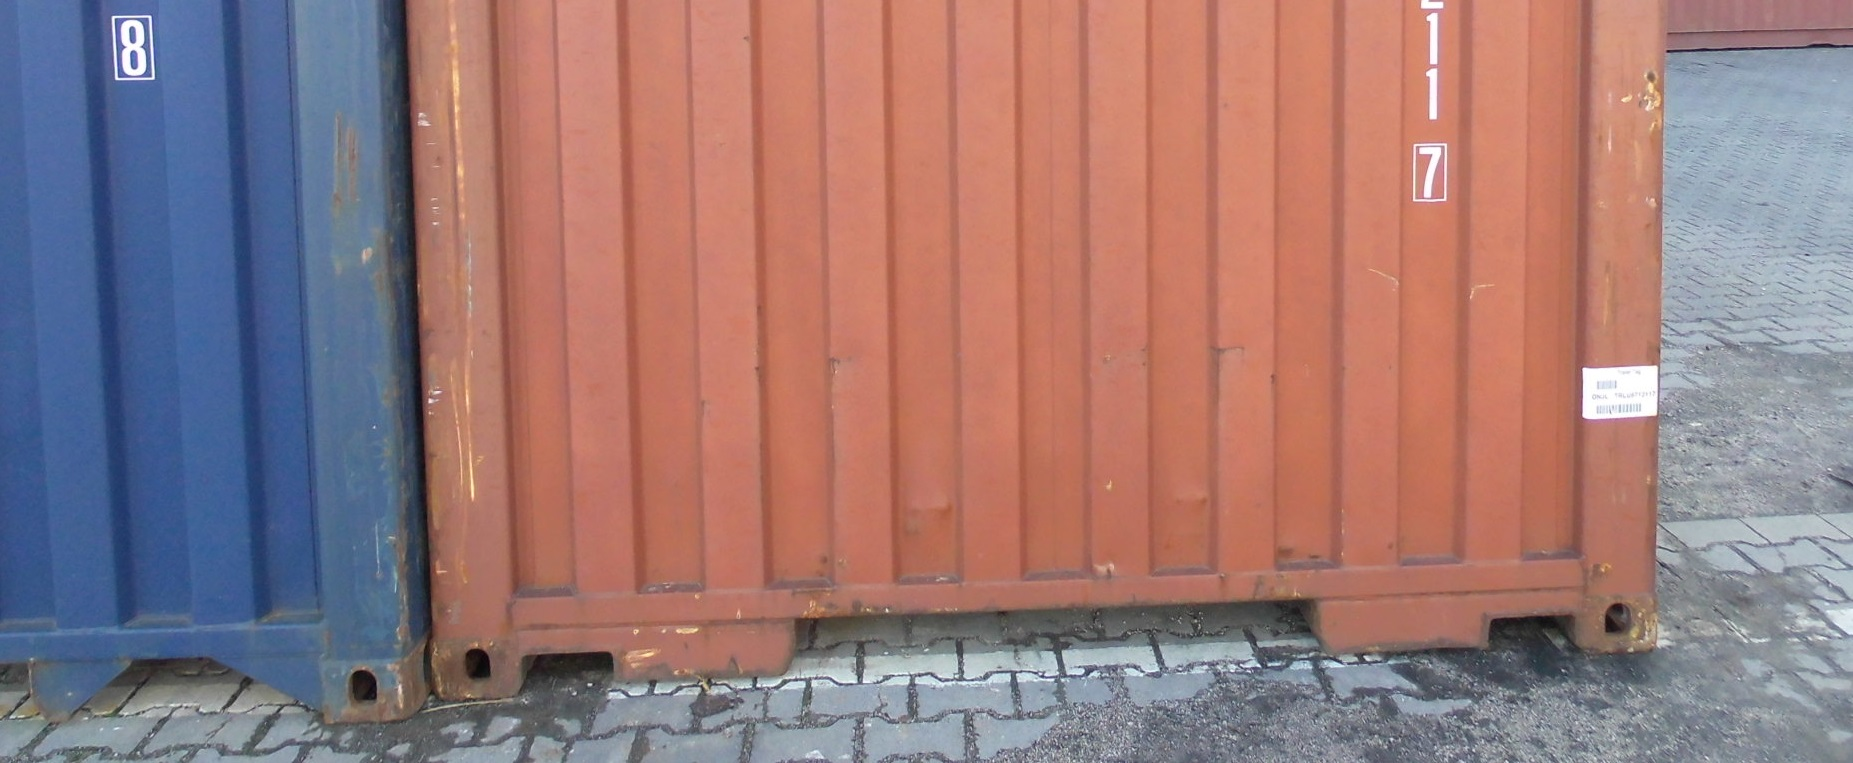container_no_door: (443, 1, 1669, 699)
